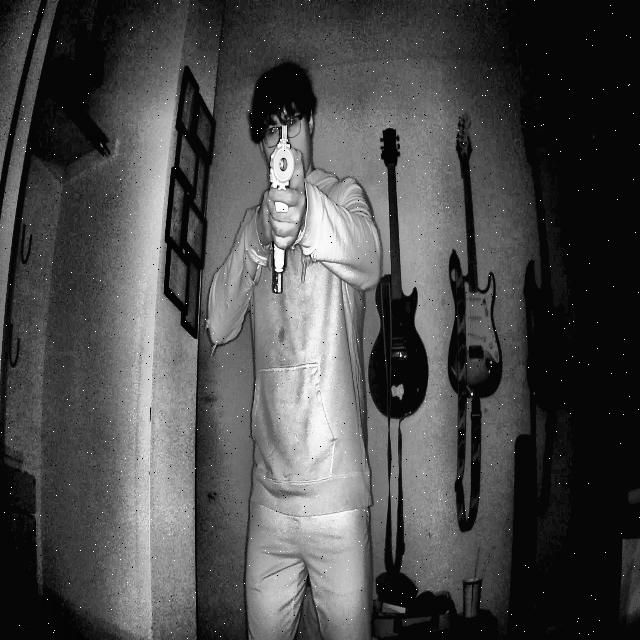Nerf_Blaster: (251, 107, 322, 335)
